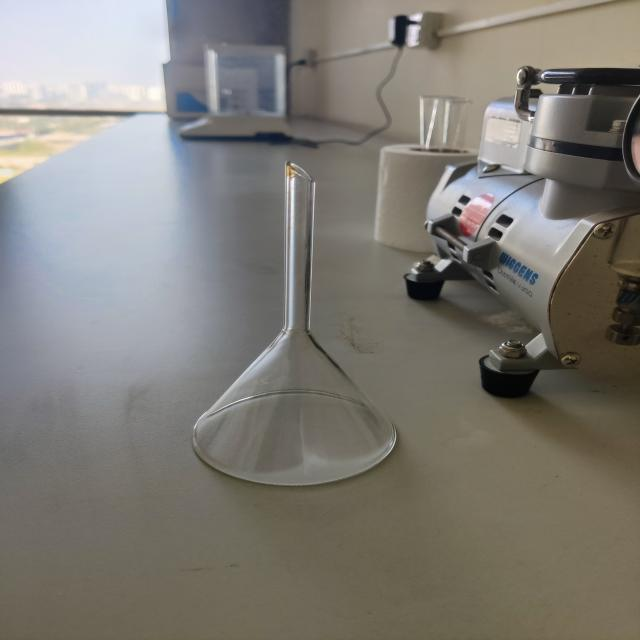Funnel: (150, 127, 425, 536)
